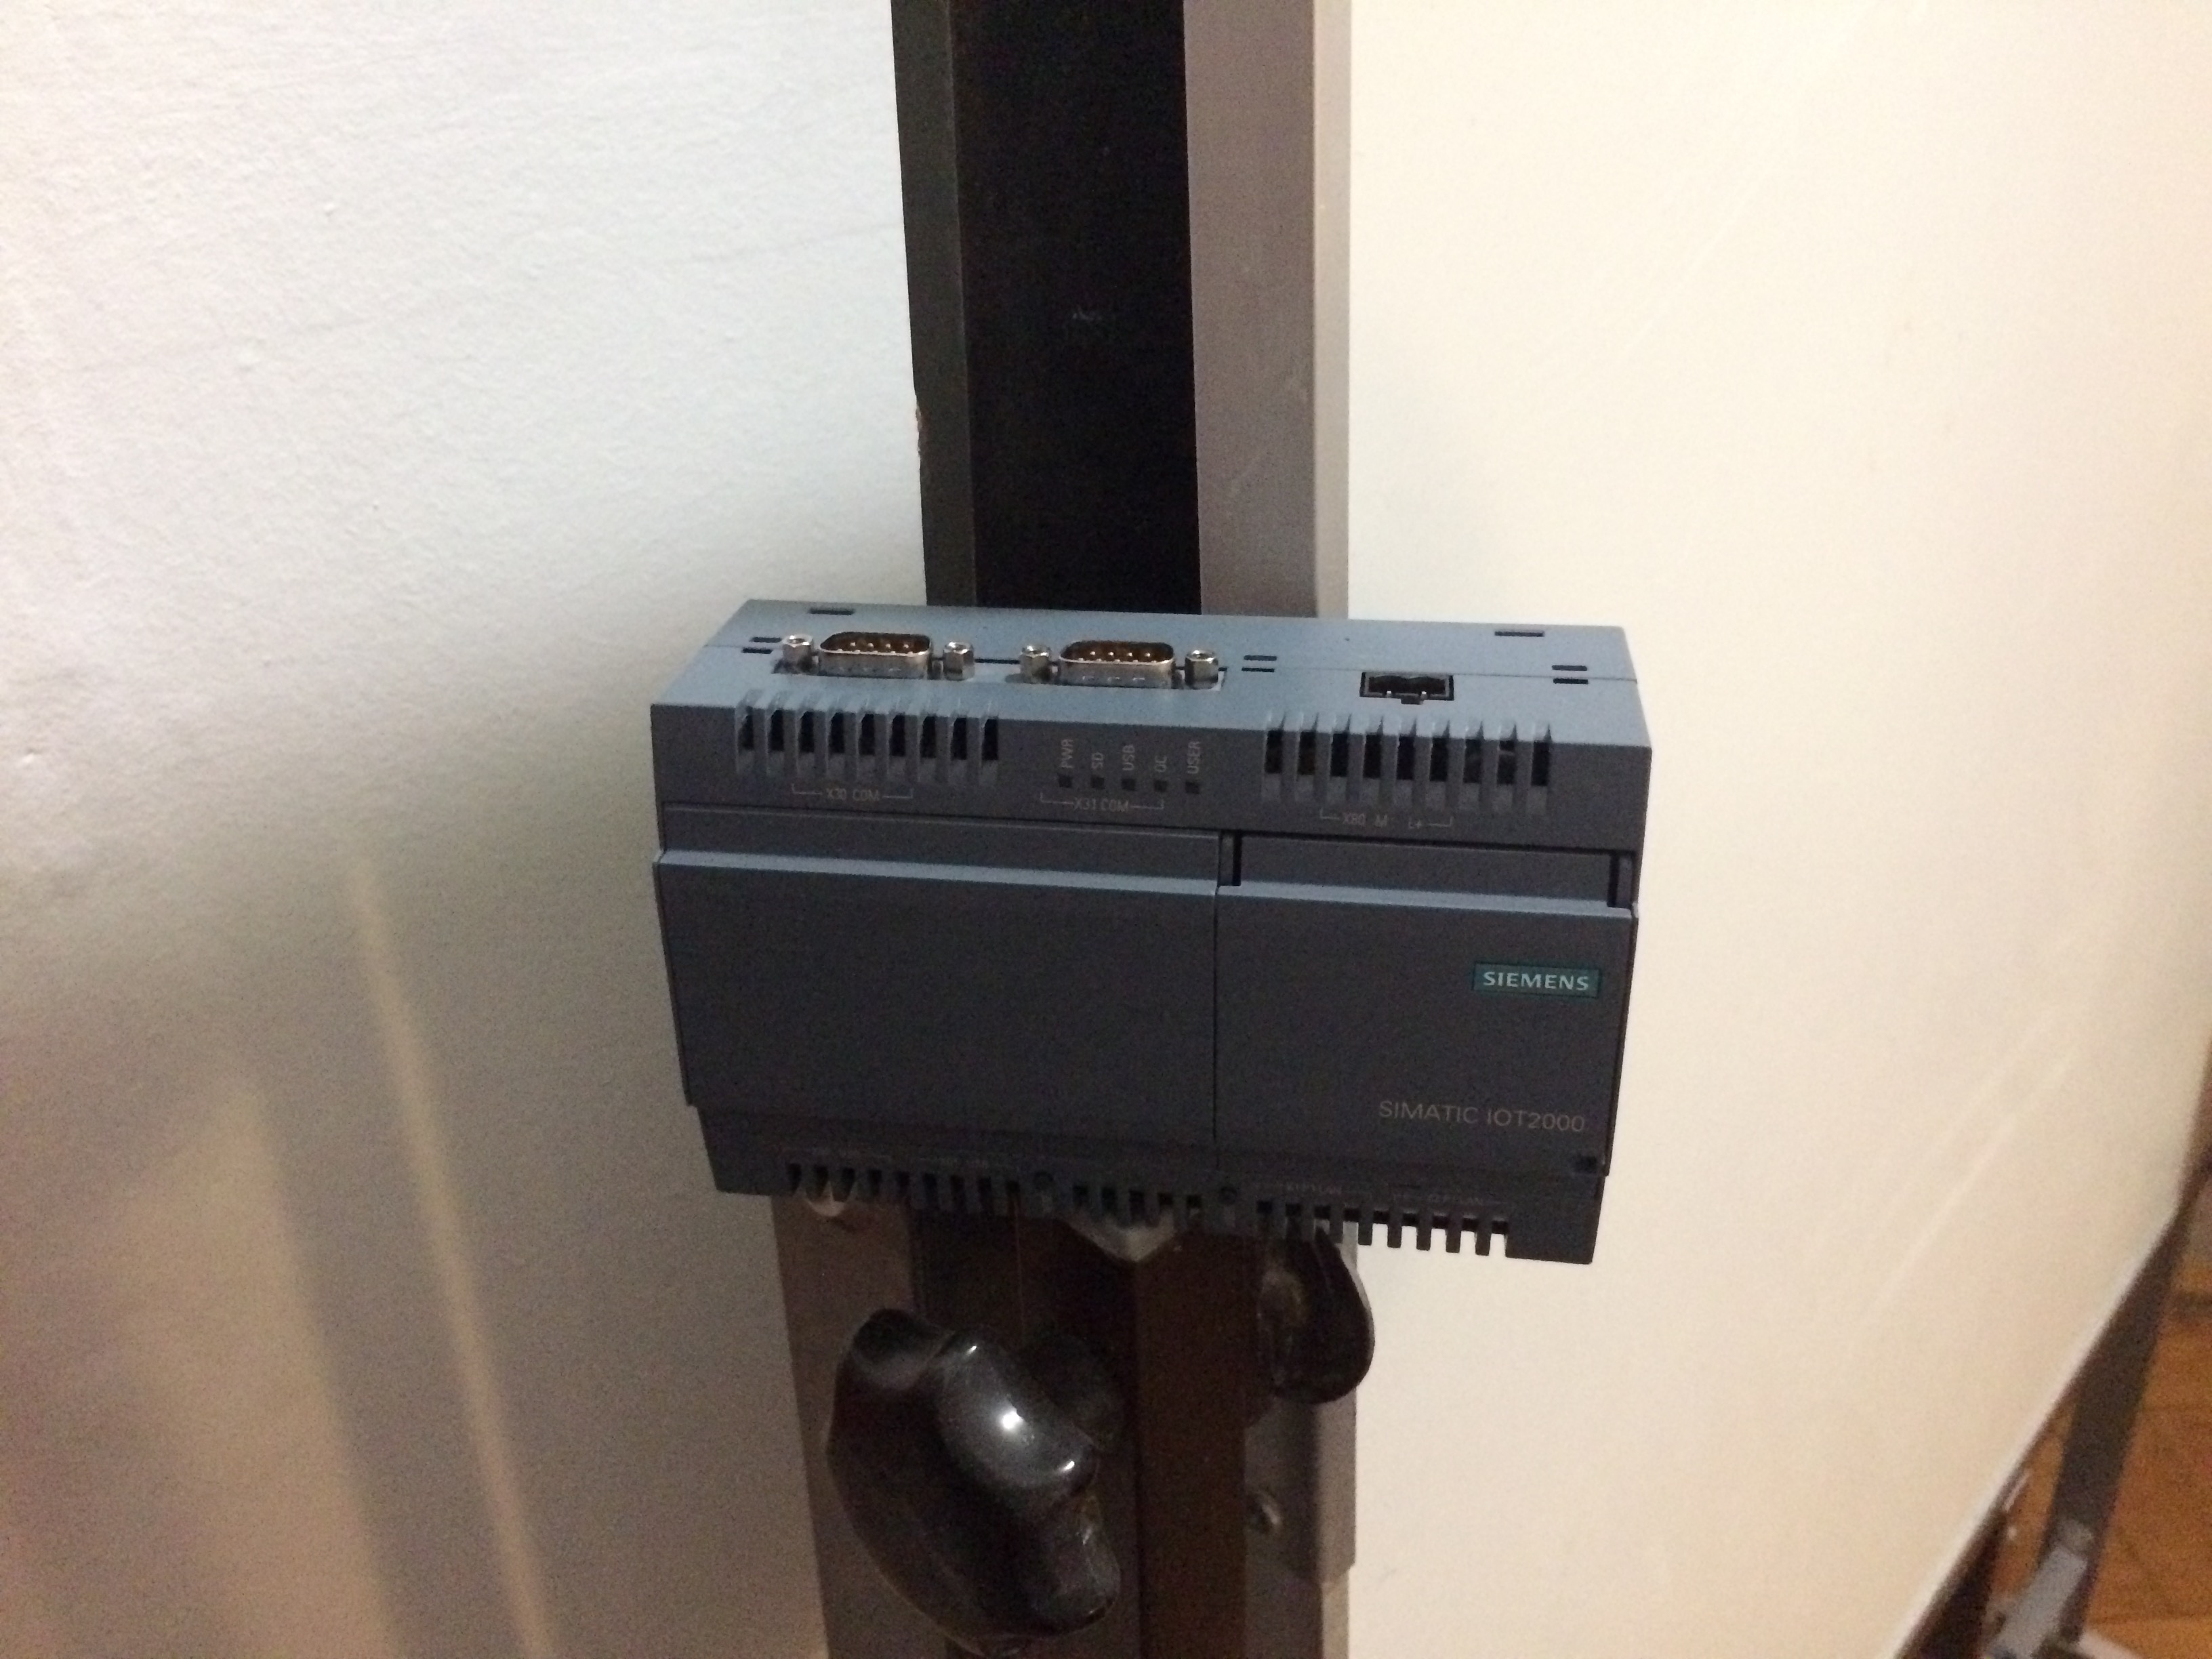iot2000: (648, 594, 1656, 1269)
